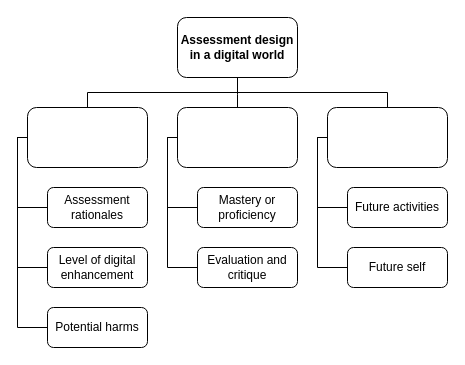
The diagram is 465 pixels wide and 365 high, and some of its shapes have lost their labels. The shapes that lost their labels are listed below. From the top down, each one's centre as x and y in pixels, then its label:
At (87,137): "Purpose 1: Digital tools".
At (237,137): "Purpose 2: Digital literacies".
At (387,137): "Purpose 3: Human capabilities".
